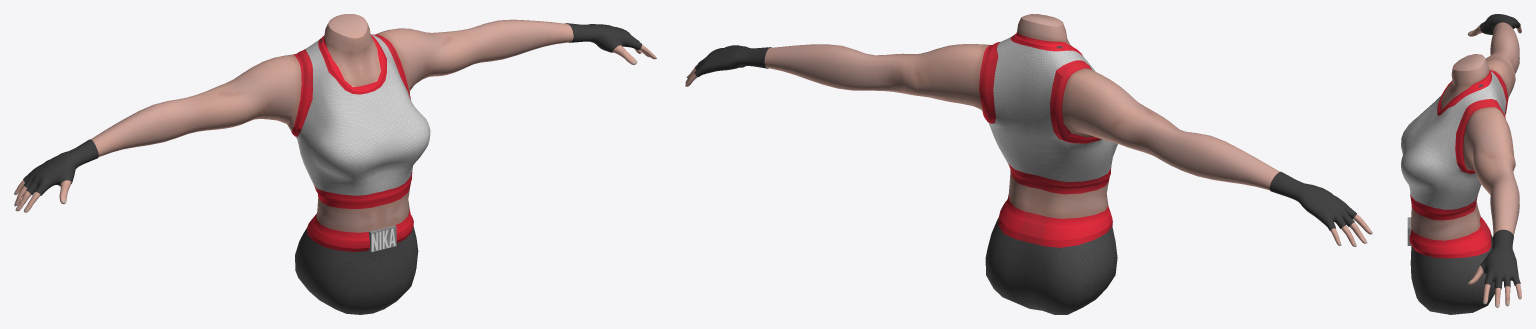
File: Fighter_Body_Mid.fbx
3 views of the same model, side by side, from view 1: azimuth 30°, elevation 25°; view 2: azimuth 150°, elevation 25°; view 3: azimuth 270°, elevation 25° (orthographic). The views are drawn at different scales.
Parts seen in each view (by area): view 1: Body_Mid_Gloves; view 2: Body_Mid_Gloves; view 3: Body_Mid_Gloves.
Boxes of the visible parts, x1,y1,x2,y2 form: Body_Mid_Gloves: (14, 14, 656, 314); Body_Mid_Gloves: (685, 14, 1372, 314); Body_Mid_Gloves: (1401, 14, 1521, 314).
Size of the model in its own units: 112 by 47.29 by 20.61.
